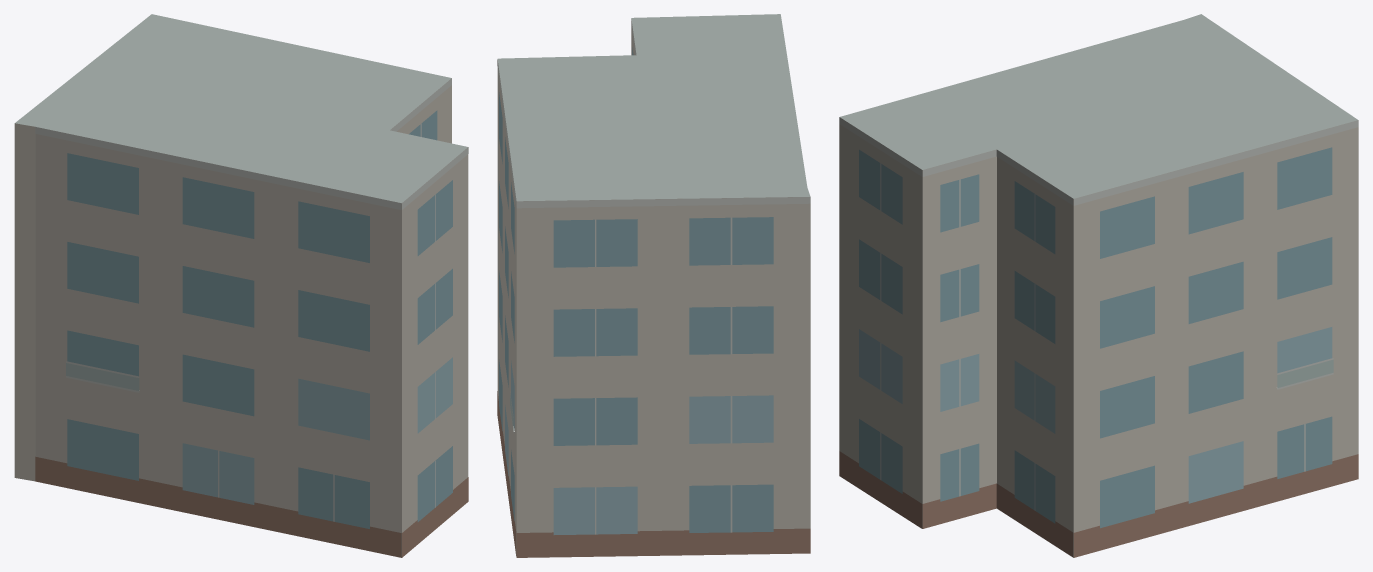
The model's file is survey-upis-32819914.glb.
The picture shows the model from 3 angles, left to right: view 1: azimuth 30°, elevation 25°; view 2: azimuth 150°, elevation 25°; view 3: azimuth 270°, elevation 25°; orthographic projection.
Visible parts, largest first — view 1: survey-upis-32819914.tmp; view 2: survey-upis-32819914.tmp; view 3: survey-upis-32819914.tmp.
Boxes of the visible parts, x1,y1,x2,y2 form: survey-upis-32819914.tmp: [14, 14, 468, 557]; survey-upis-32819914.tmp: [497, 14, 810, 557]; survey-upis-32819914.tmp: [839, 14, 1358, 557].
Bounding box in the file's own units: 13.7 × 12.4 × 16.26.
